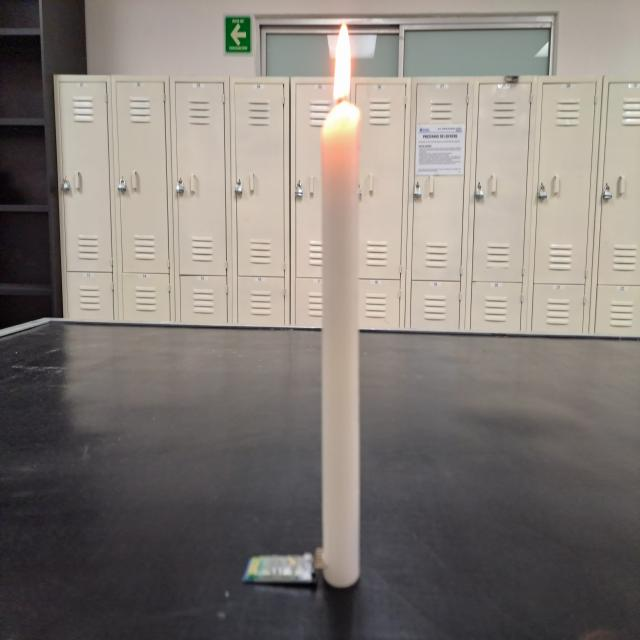candle: (316, 12, 367, 602)
